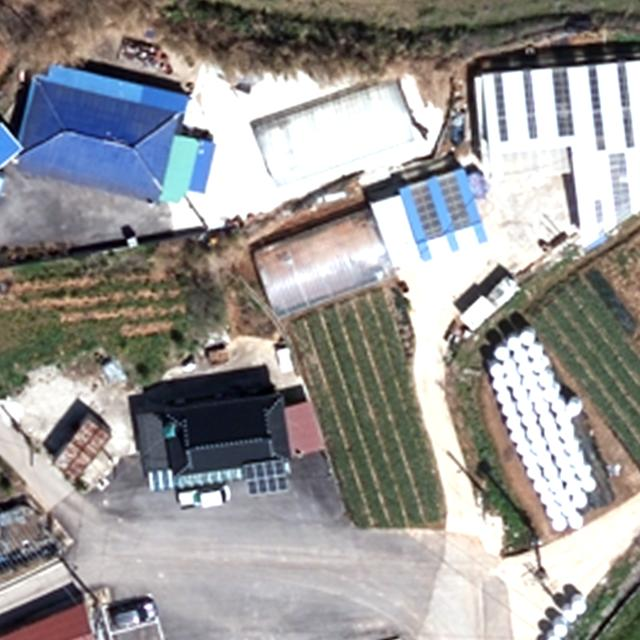panel: (242, 459, 288, 497)
